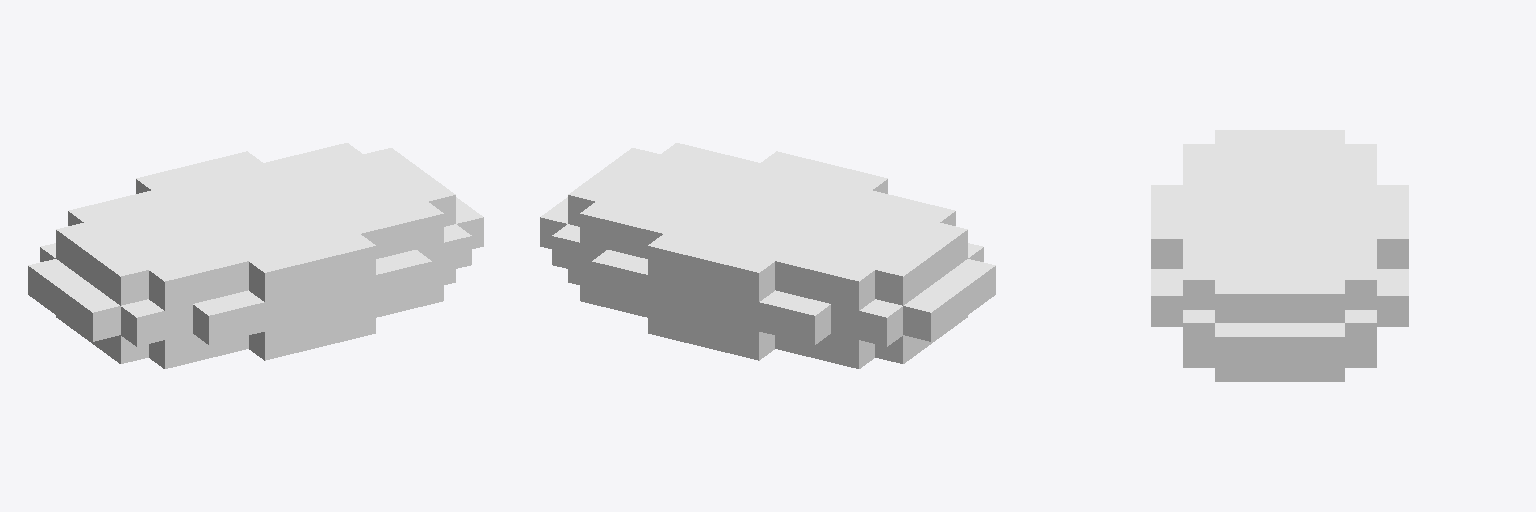
Rendered from pedra-2.obj.
The picture shows the model from 3 angles: view 1: azimuth 30°, elevation 25°; view 2: azimuth 150°, elevation 25°; view 3: azimuth 270°, elevation 25°; orthographic projection.
Parts seen in each view (by area): view 1: object 1; view 2: object 1; view 3: object 1.
Part boxes in pixels (bbox=[...]): object 1: bbox=[28, 143, 483, 368]; object 1: bbox=[540, 143, 995, 368]; object 1: bbox=[1151, 130, 1408, 381].
Size of the model in its own units: 1.4 by 0.3 by 0.8.